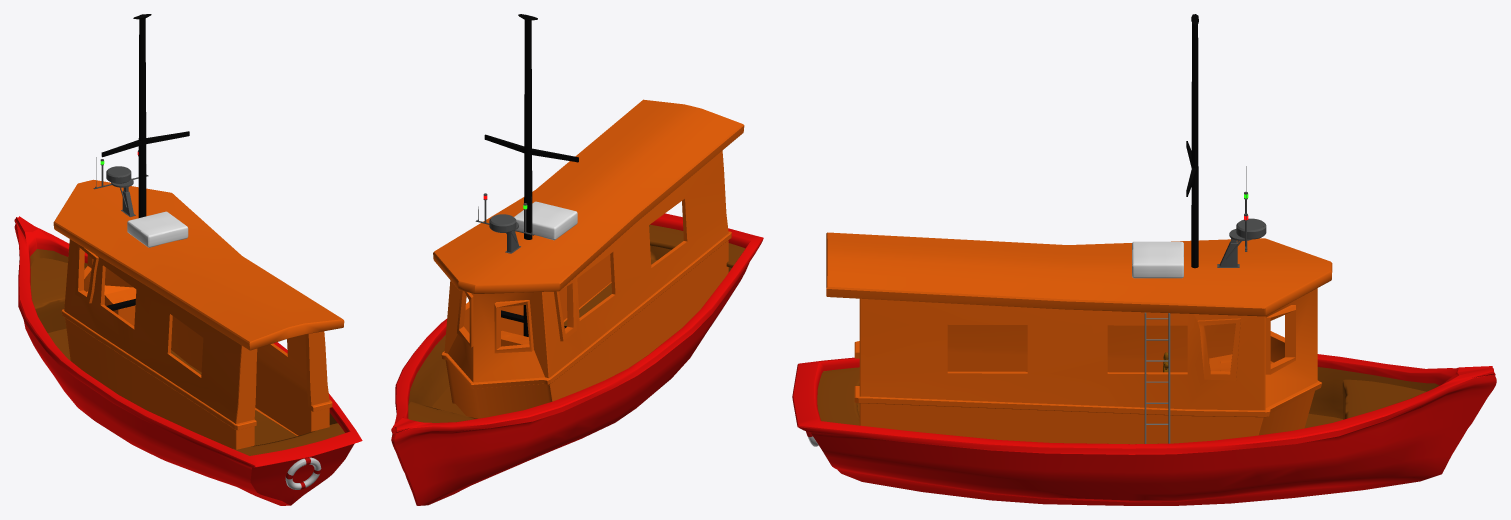
Rendered from Cenario_barcos.fbx.
The picture shows the model from 3 angles, left to right: view 1: azimuth 30°, elevation 25°; view 2: azimuth 150°, elevation 25°; view 3: azimuth 270°, elevation 25°; orthographic projection. The views are drawn at different scales.
Visible parts, largest first — view 1: barco_externo; view 2: barco_externo; view 3: barco_externo.
Part boxes in pixels (<box>): barco_externo: <box>14,14,362,505</box>; barco_externo: <box>391,14,763,505</box>; barco_externo: <box>792,14,1496,505</box>.
Size of the model in its own units: 1090 by 2277 by 2985.
